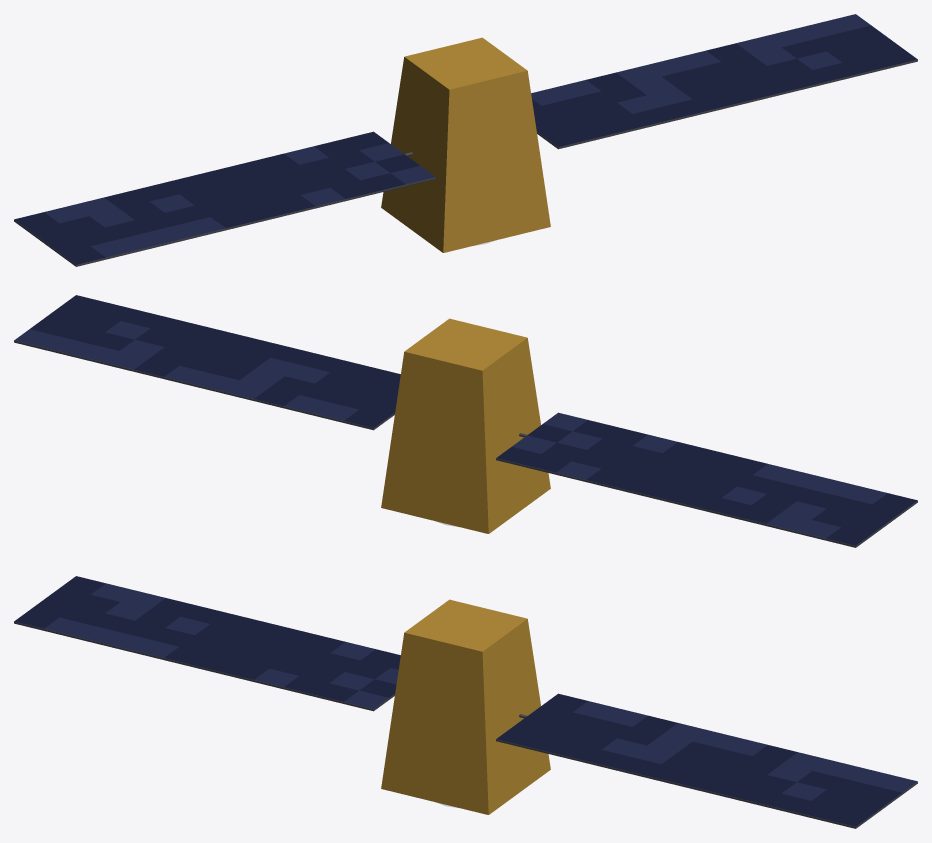
The model's file is gen-trap-geo.obj.
3 renders of one model, top to bottom at view 1: azimuth 30°, elevation 25°; view 2: azimuth 150°, elevation 25°; view 3: azimuth 330°, elevation 25°, orthographic.
Parts seen in each view (by area): view 1: gen-trap-geo; view 2: gen-trap-geo; view 3: gen-trap-geo.
Boxes of the visible parts, x1,y1,x2,y2 form: gen-trap-geo: [14, 14, 917, 266]; gen-trap-geo: [14, 295, 917, 547]; gen-trap-geo: [14, 576, 917, 828].
Size of the model in its own units: 17.2 by 3.39 by 2.2.
